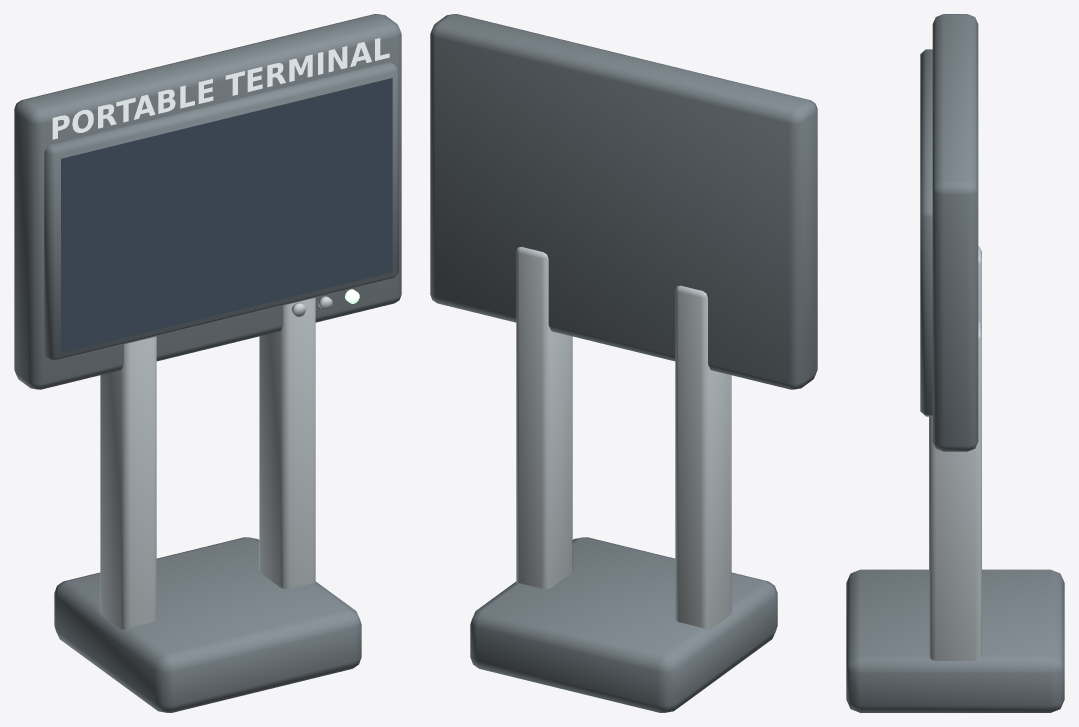
The model's file is portable_terminal_ultra.glb.
The picture shows the model from 3 angles, left to right: view 1: azimuth 30°, elevation 25°; view 2: azimuth 150°, elevation 25°; view 3: azimuth 270°, elevation 25°; orthographic projection. The views are drawn at different scales.
Visible parts, largest first — view 1: LiveViewSurface_glass, Base_frame, DisplayHousing_frame, Support_steel, LiveViewSurfaceFrame_frame, TypeLabel_white; view 2: DisplayHousing_frame, Support_steel, Base_frame; view 3: Base_frame, DisplayHousing_frame, Support_steel, LiveViewSurfaceFrame_frame.
Boxes of the visible parts, bbox=[...] form: LiveViewSurface_glass: bbox=[61, 78, 392, 352]; Base_frame: bbox=[54, 537, 361, 712]; DisplayHousing_frame: bbox=[14, 14, 401, 389]; Support_steel: bbox=[100, 297, 315, 629]; LiveViewSurfaceFrame_frame: bbox=[44, 62, 398, 361]; TypeLabel_white: bbox=[52, 38, 389, 139]; DisplayHousing_frame: bbox=[430, 14, 817, 389]; Support_steel: bbox=[516, 247, 731, 629]; Base_frame: bbox=[470, 537, 777, 712]; Base_frame: bbox=[846, 569, 1064, 712]; DisplayHousing_frame: bbox=[932, 14, 978, 451]; Support_steel: bbox=[929, 246, 981, 660]; LiveViewSurfaceFrame_frame: bbox=[920, 49, 932, 416].
Size of the model in its own units: 1.18 by 1.79 by 0.62.
